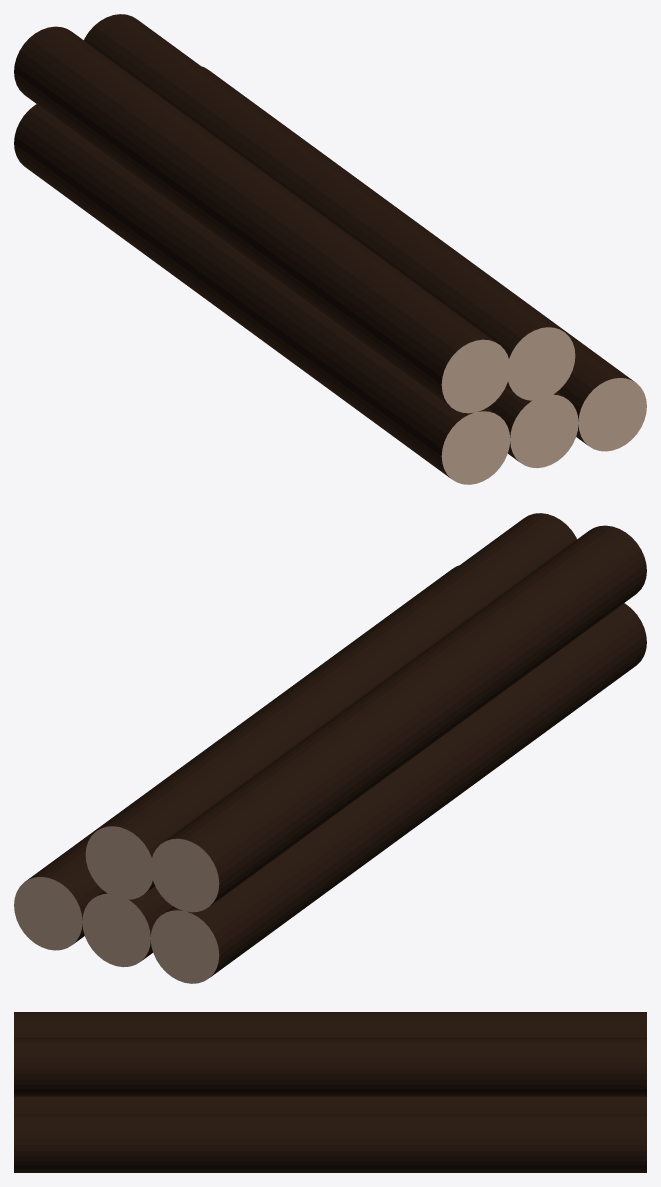
File: Logs.fbx
The picture shows the model from 3 angles, top to bottom: view 1: azimuth 30°, elevation 25°; view 2: azimuth 150°, elevation 25°; view 3: azimuth 270°, elevation 25°; orthographic projection. The views are drawn at different scales.
Parts seen in each view (by area): view 1: Cylinder.002, Cylinder, Cylinder.003, Cylinder.004, Cylinder.001; view 2: Cylinder.002, Cylinder, Cylinder.003, Cylinder.004, Cylinder.001; view 3: Cylinder.003, Cylinder.004, Cylinder.002, Cylinder.001.
Boxes of the visible parts, x1,y1,x2,y2 form: Cylinder.002: (14,26,510,413); Cylinder: (14,104,510,484); Cylinder.003: (84,14,575,400); Cylinder.004: (202,66,646,451); Cylinder.001: (488,387,578,468); Cylinder.002: (151,525,646,912); Cylinder: (150,603,646,983); Cylinder.003: (85,513,576,899); Cylinder.004: (14,565,458,950); Cylinder.001: (82,886,172,967); Cylinder.003: (14,1038,646,1096); Cylinder.004: (14,1114,646,1172); Cylinder.002: (14,1012,646,1037); Cylinder.001: (14,1096,646,1114).
Bounding box in the file's own units: 77.24 × 51.53 × 279.
